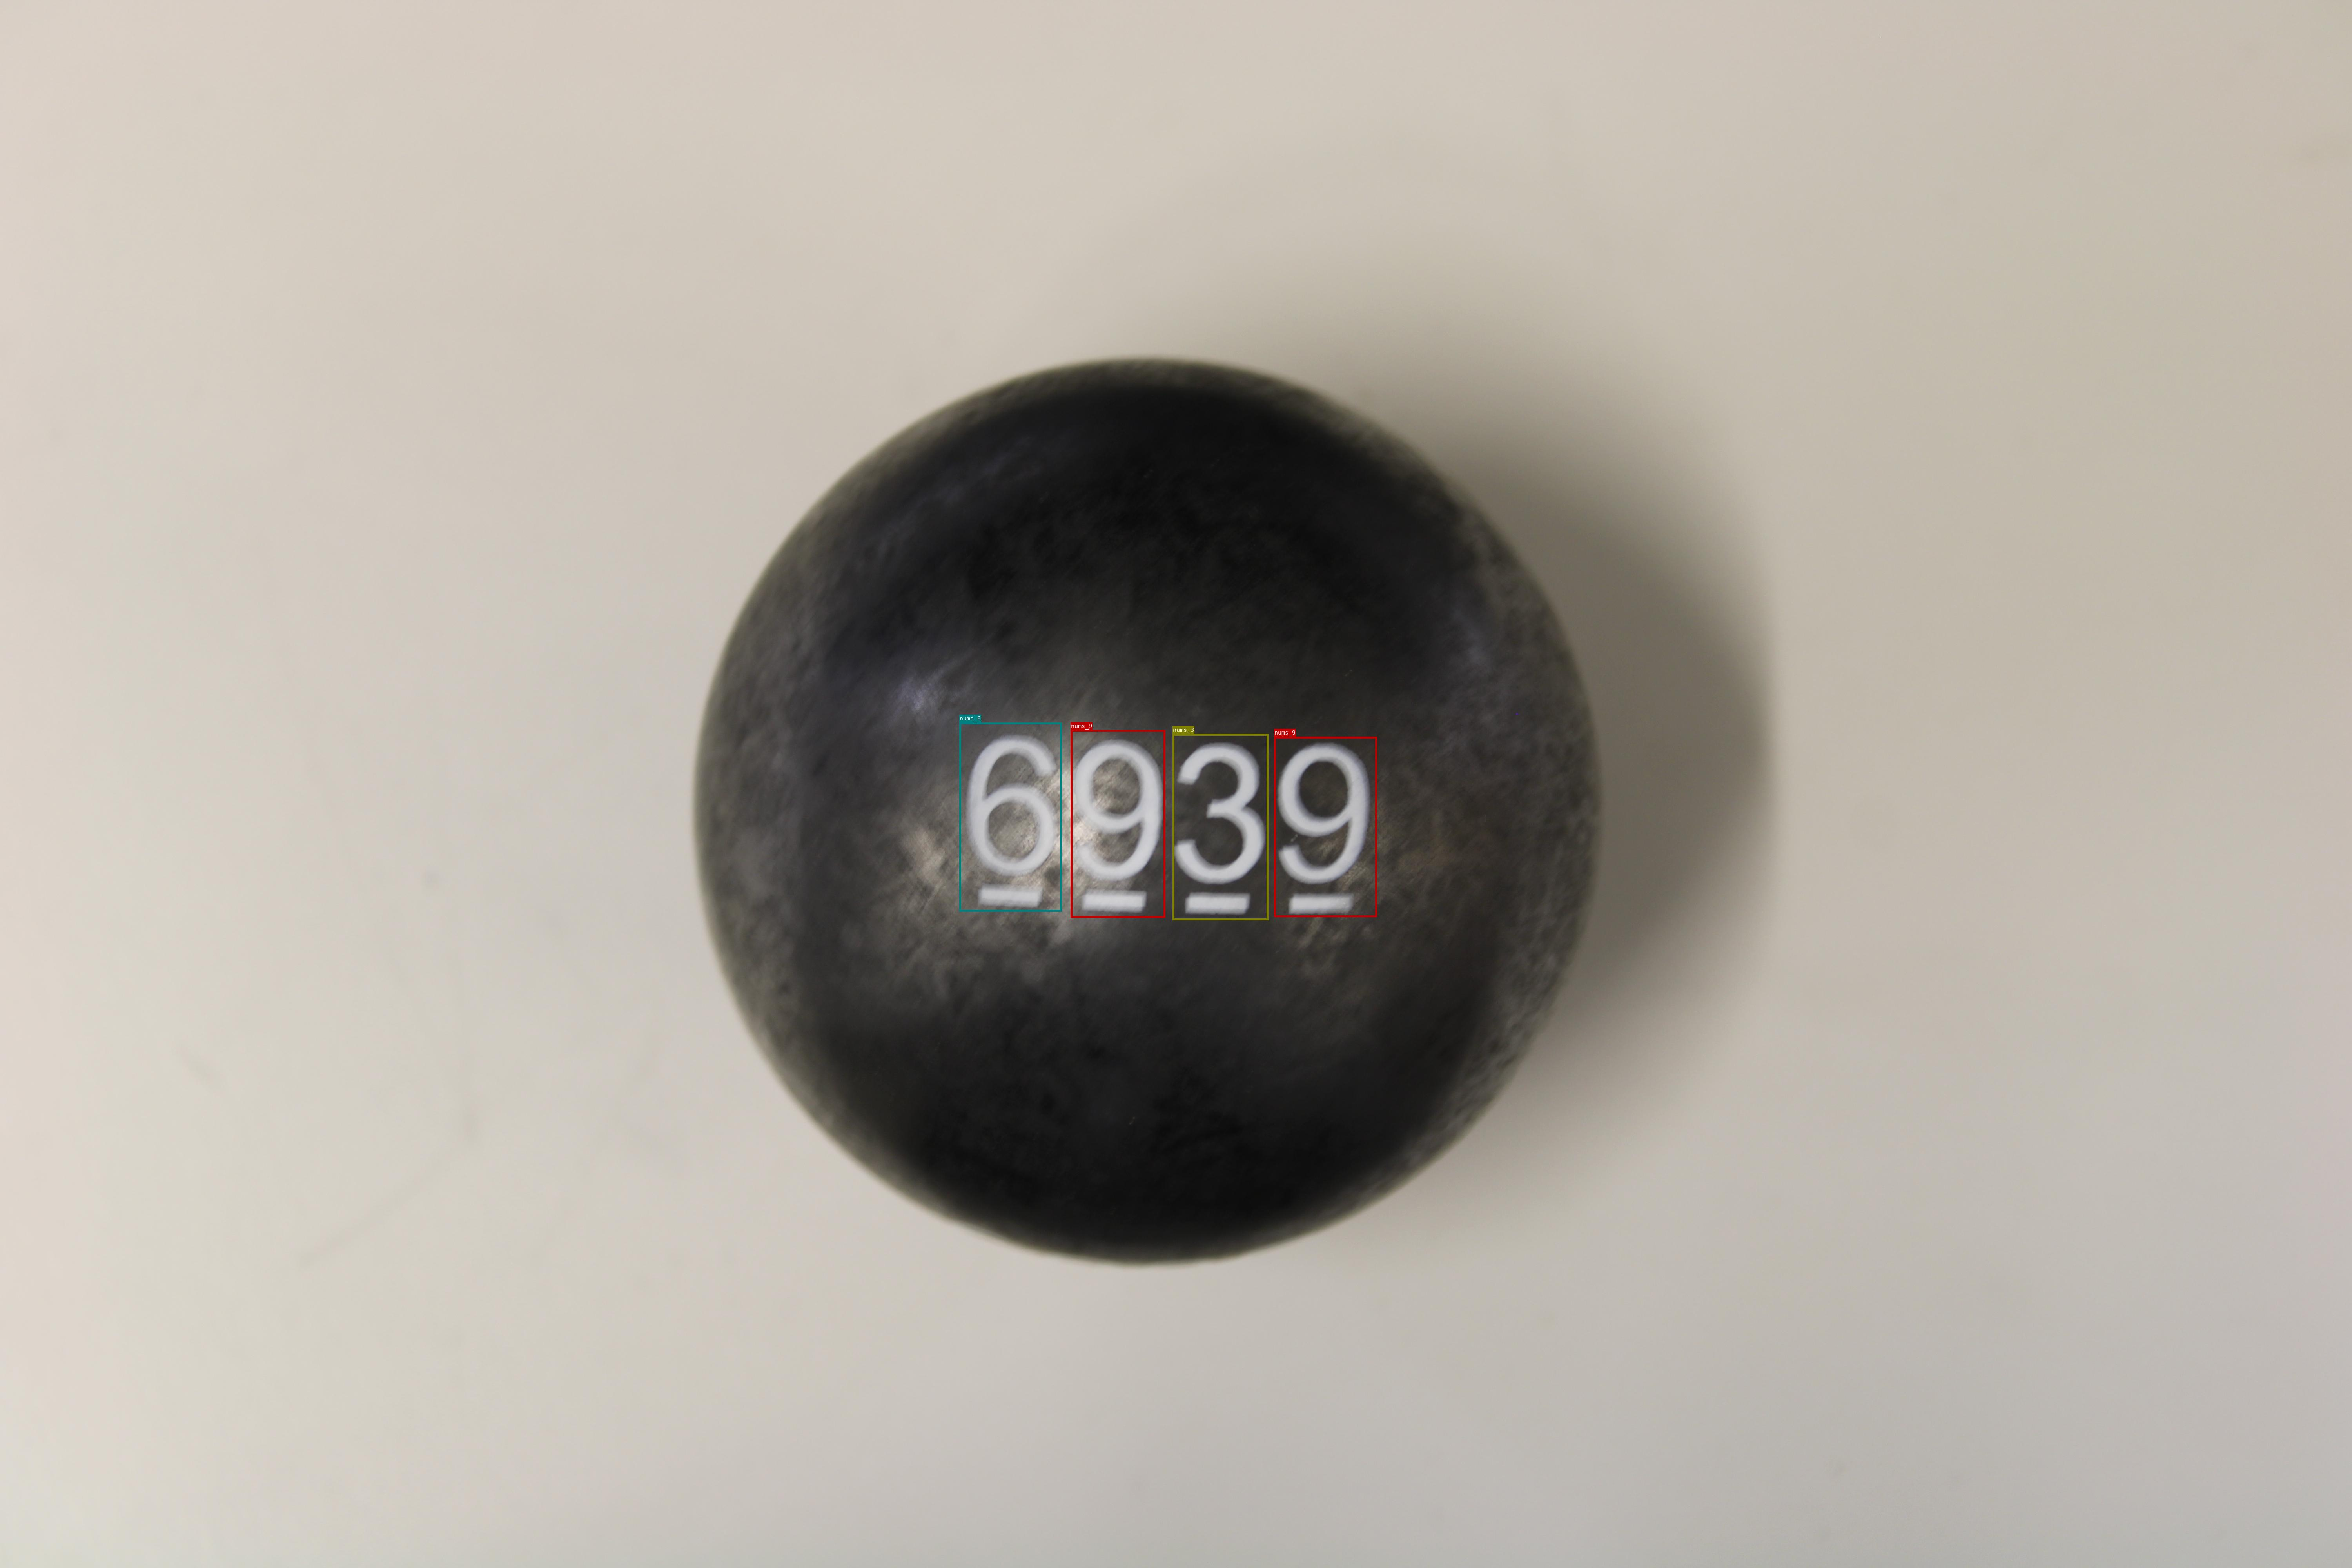nums_3: (1172, 733, 1269, 921)
nums_6: (959, 723, 1062, 912)
nums_9: (1274, 737, 1377, 917), (1071, 730, 1165, 917)
